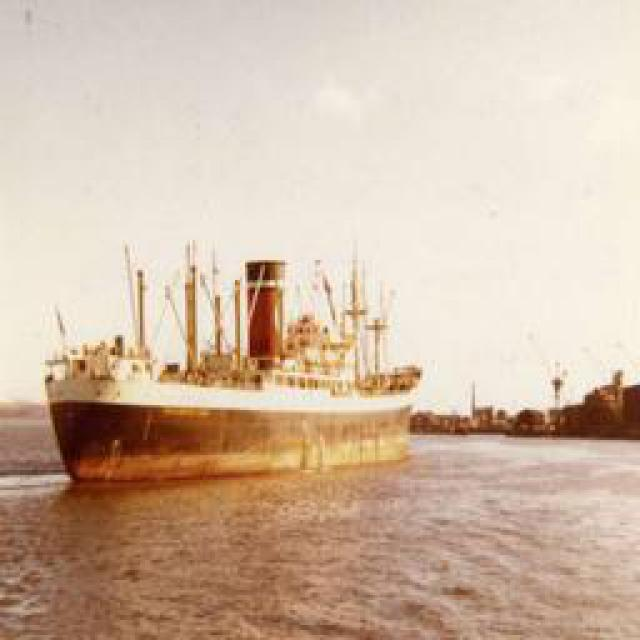Ship: (46, 279, 426, 479)
